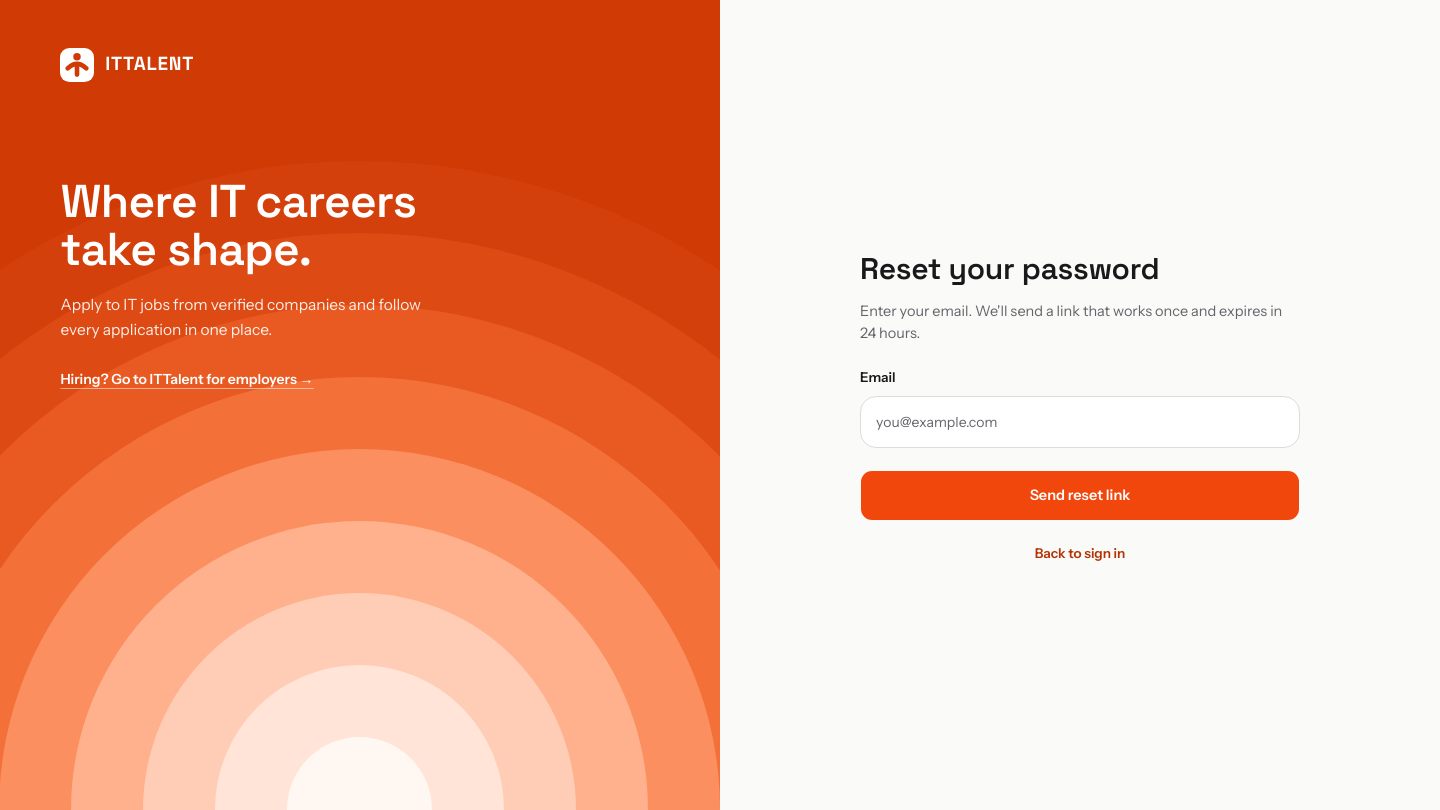
ForgotPasswordPage › handles rate limit 429 response gracefully
This screenshot has width=1440, height=810.
Step 1. Type "rate-limited@example.com" into the field labelled "Email" → point(1080, 422), box [860,396,1300,448]
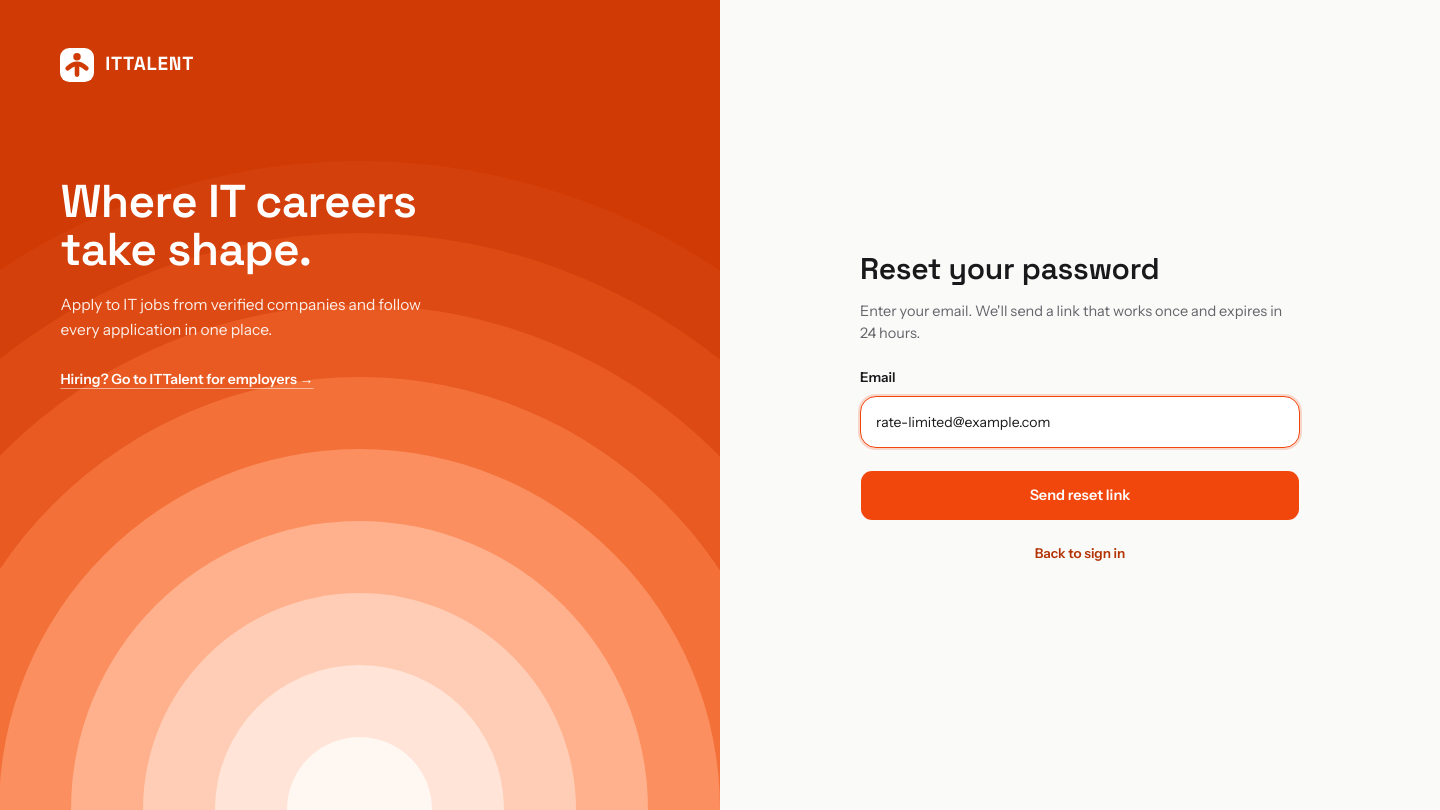
Step 2. Click the button "Send reset link" → point(1080, 496), box [860,470,1300,521]
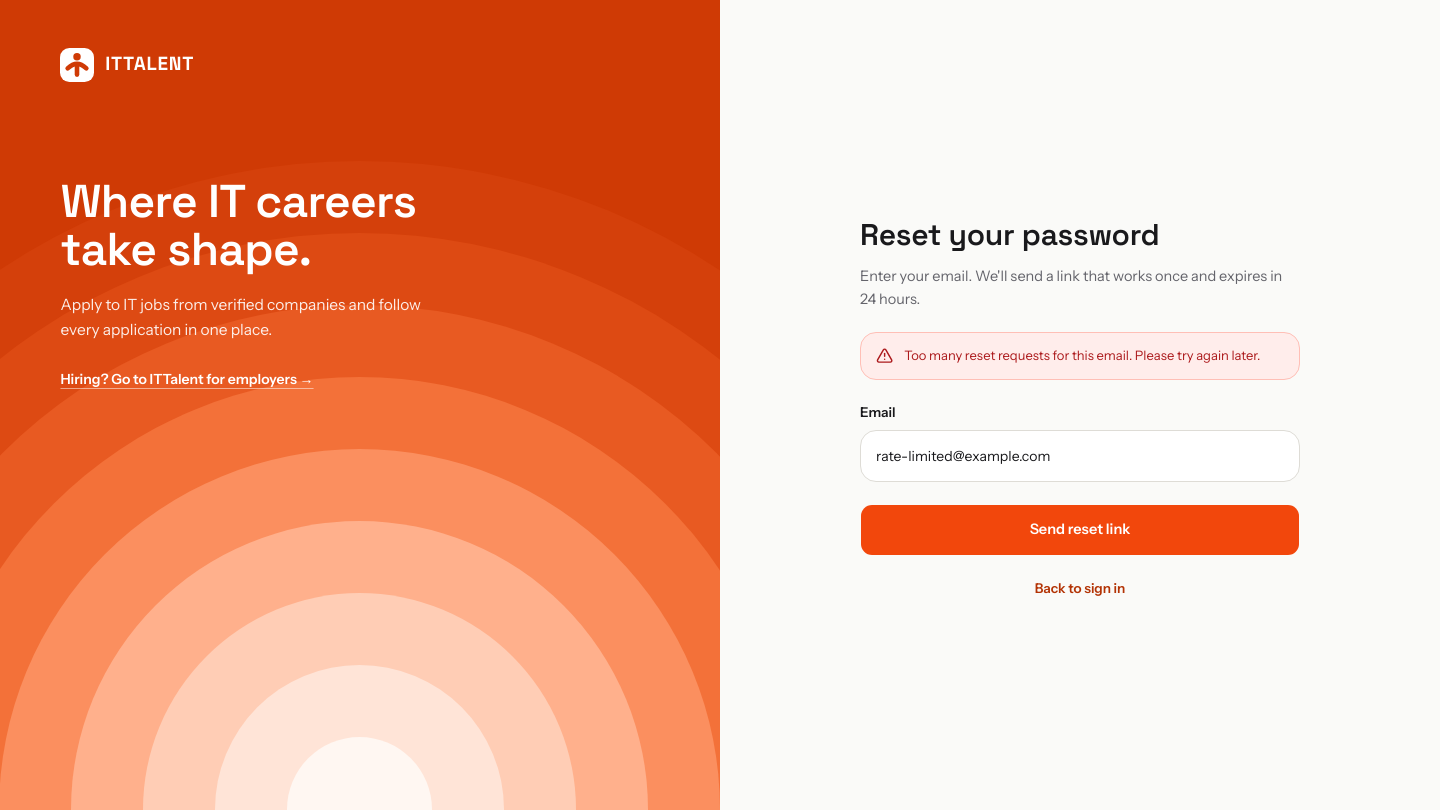
expect the text "Too many reset requests for this email. Please try again later." is shown: met, box [904,346,1284,366]
